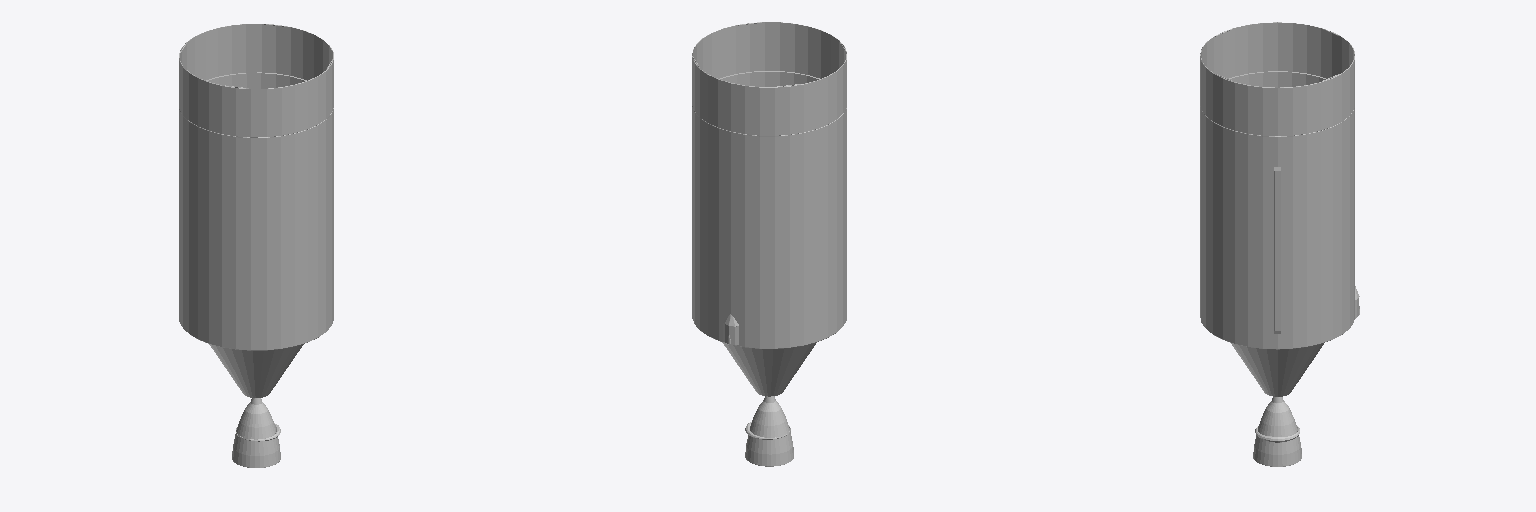
Rendered from Saturn V_5.obj.
3 renders of one model, left to right at view 1: azimuth 30°, elevation 25°; view 2: azimuth 150°, elevation 25°; view 3: azimuth 270°, elevation 25°, orthographic.
Parts seen in each view (by area): view 1: Saturn_V_Third_Stage_Cylinder.004, LEM_Fairing_Bottom_Cylinder.017, J-2_Engine_-_Second_Stage.005_Cylinder.020; view 2: Saturn_V_Third_Stage_Cylinder.004, LEM_Fairing_Bottom_Cylinder.017, J-2_Engine_-_Second_Stage.005_Cylinder.020; view 3: Saturn_V_Third_Stage_Cylinder.004, LEM_Fairing_Bottom_Cylinder.017, J-2_Engine_-_Second_Stage.005_Cylinder.020, Cube_Cube.012.
Boxes of the visible parts, x1=… form: Saturn_V_Third_Stage_Cylinder.004: x1=179, y1=72, x2=333, y2=397; LEM_Fairing_Bottom_Cylinder.017: x1=179, y1=24, x2=333, y2=137; J-2_Engine_-_Second_Stage.005_Cylinder.020: x1=232, y1=398, x2=280, y2=467; Saturn_V_Third_Stage_Cylinder.004: x1=692, y1=71, x2=846, y2=396; LEM_Fairing_Bottom_Cylinder.017: x1=692, y1=22, x2=846, y2=135; J-2_Engine_-_Second_Stage.005_Cylinder.020: x1=745, y1=396, x2=793, y2=466; Saturn_V_Third_Stage_Cylinder.004: x1=1200, y1=71, x2=1354, y2=396; LEM_Fairing_Bottom_Cylinder.017: x1=1200, y1=22, x2=1354, y2=135; J-2_Engine_-_Second_Stage.005_Cylinder.020: x1=1253, y1=397, x2=1301, y2=466; Cube_Cube.012: x1=1274, y1=167, x2=1280, y2=333.
Bounding box in the file's own units: 6.66 × 18.83 × 6.79.